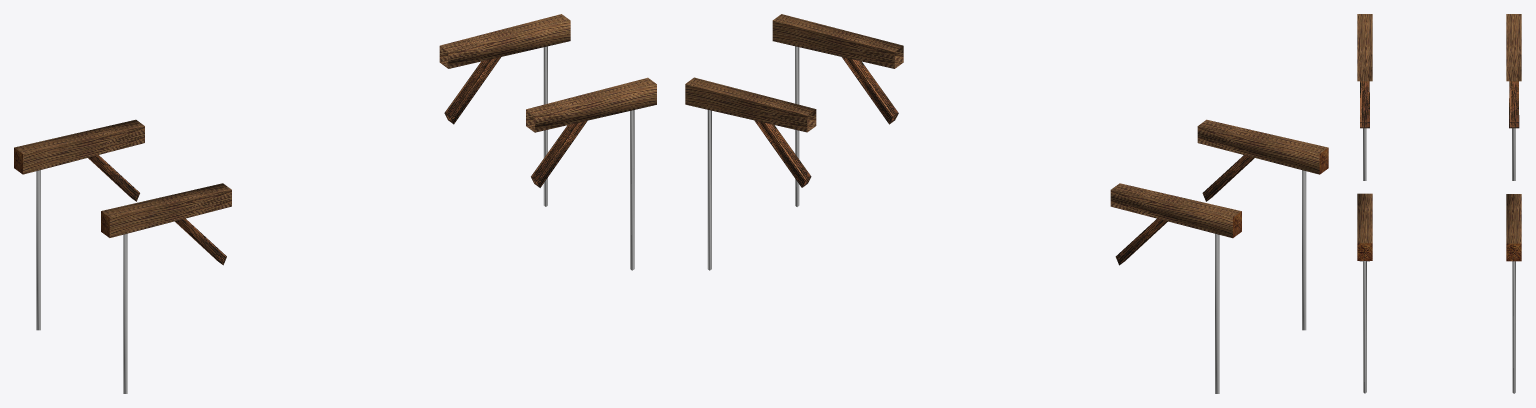
File: LAKETOWN_EXTERIOR_PS_LT_ROPESUP74646__GX.obj
3 views of the same model, side by side, from view 1: azimuth 30°, elevation 25°; view 2: azimuth 150°, elevation 25°; view 3: azimuth 270°, elevation 25° (orthographic). The views are drawn at different scales.
Parts seen in each view (by area): view 1: opeSup74646__GX; view 2: opeSup74646__GX; view 3: opeSup74646__GX.
Part boxes in pixels (x1=…): opeSup74646__GX: x1=14, y1=14, x2=656, y2=393; opeSup74646__GX: x1=685, y1=14, x2=1328, y2=393; opeSup74646__GX: x1=1357, y1=14, x2=1521, y2=393.
Size of the model in its own units: 871 by 279 by 264.
